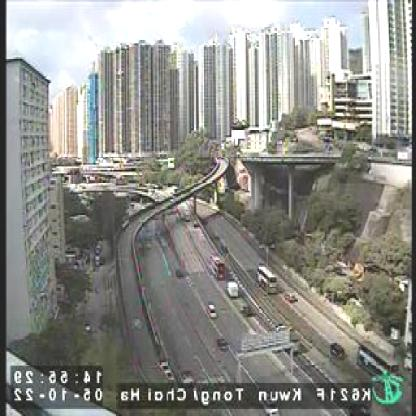Bus: (359, 338, 399, 385), (259, 263, 277, 294), (213, 255, 226, 279)
Car: (331, 343, 346, 361), (228, 279, 240, 296), (217, 336, 229, 352), (287, 291, 298, 302), (209, 302, 217, 317)
